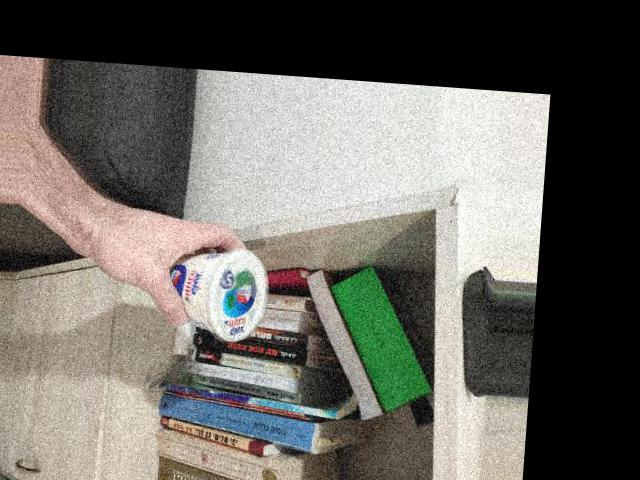cotage: (151, 235, 277, 345)
